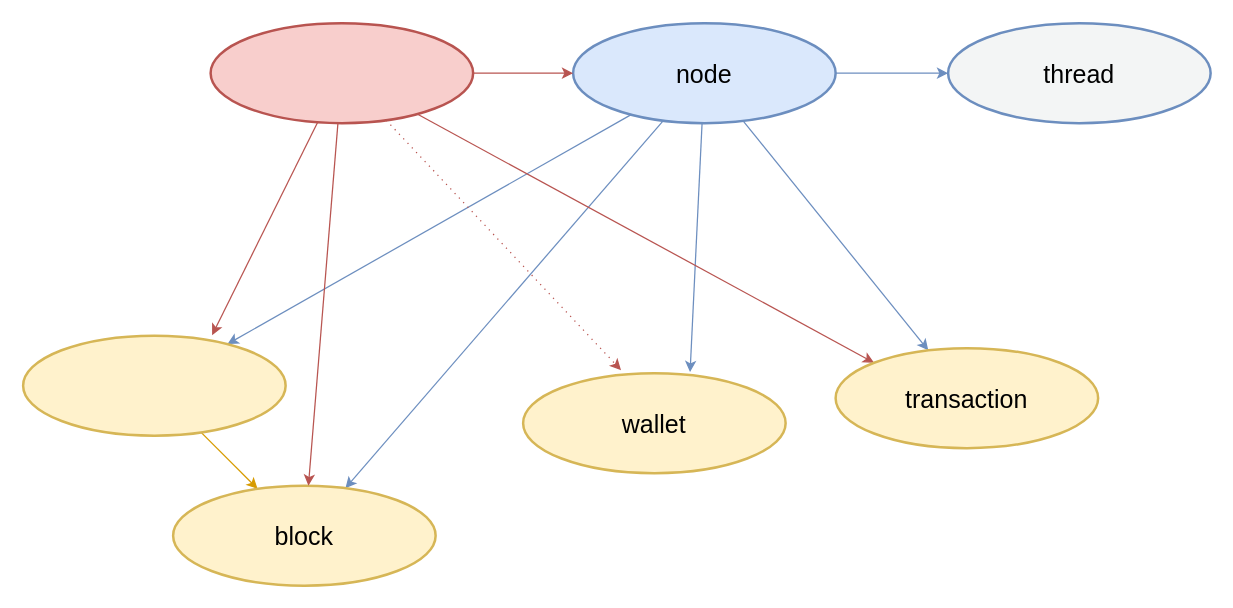
Some shapes in this 1233 by 608 pixel diagram are drawn without their labels. Each missing label, with the centre of its shape:
"blockchain" goes at point (153, 385).
"rest" goes at point (341, 72).
